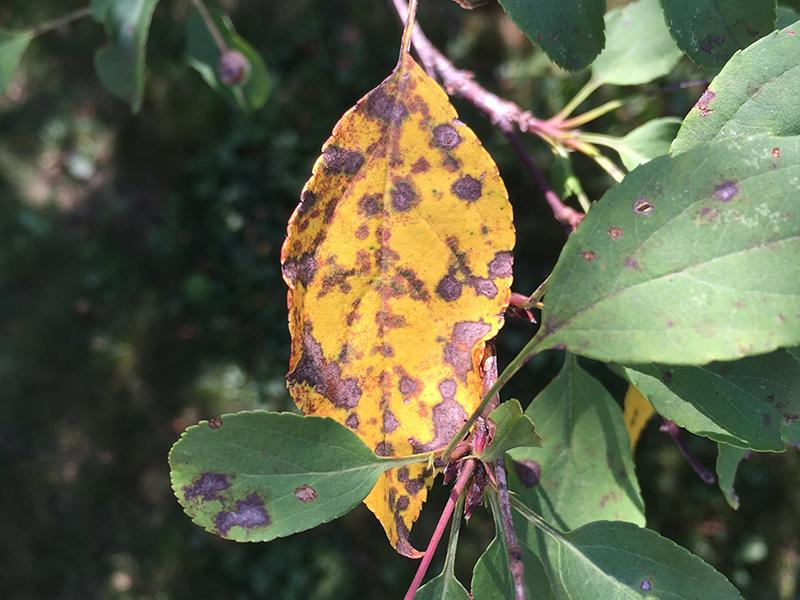Apple Scab Leaf: (290, 50, 493, 563), (516, 158, 800, 371), (165, 401, 373, 556)
